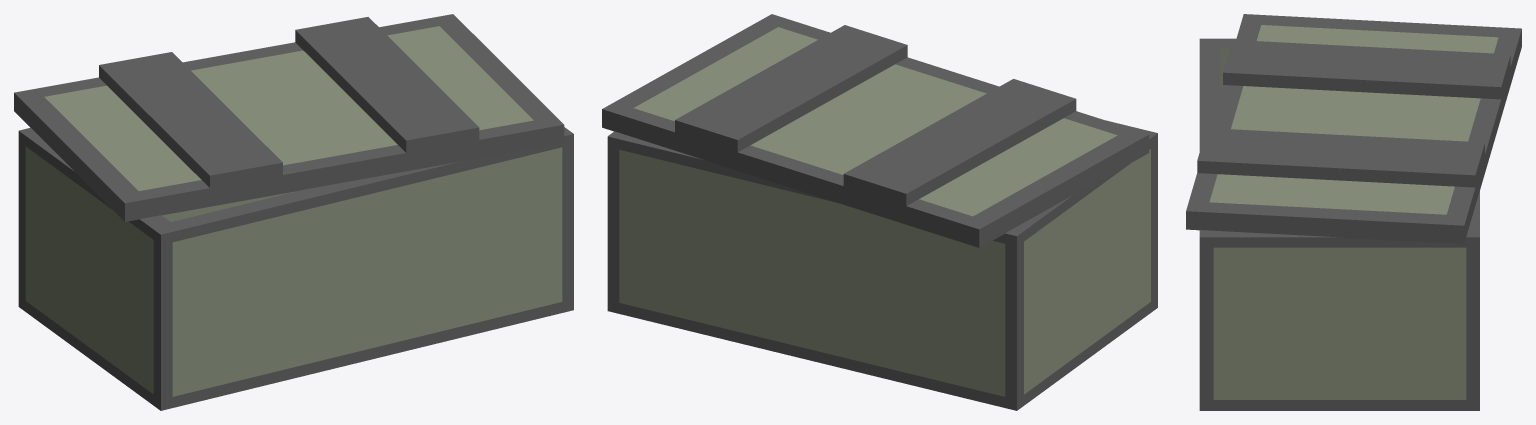
The model's file is sm_crate.fbx.
The picture shows the model from 3 angles, left to right: view 1: azimuth 30°, elevation 25°; view 2: azimuth 150°, elevation 25°; view 3: azimuth 270°, elevation 25°; orthographic projection.
Visible parts, largest first — view 1: sm_crate; view 2: sm_crate; view 3: sm_crate.
Boxes of the visible parts, <box> form: sm_crate: <box>14,14,573,410</box>; sm_crate: <box>602,14,1157,410</box>; sm_crate: <box>1186,14,1521,410</box>.
Size of the model in its own units: 167 by 75.07 by 112.
